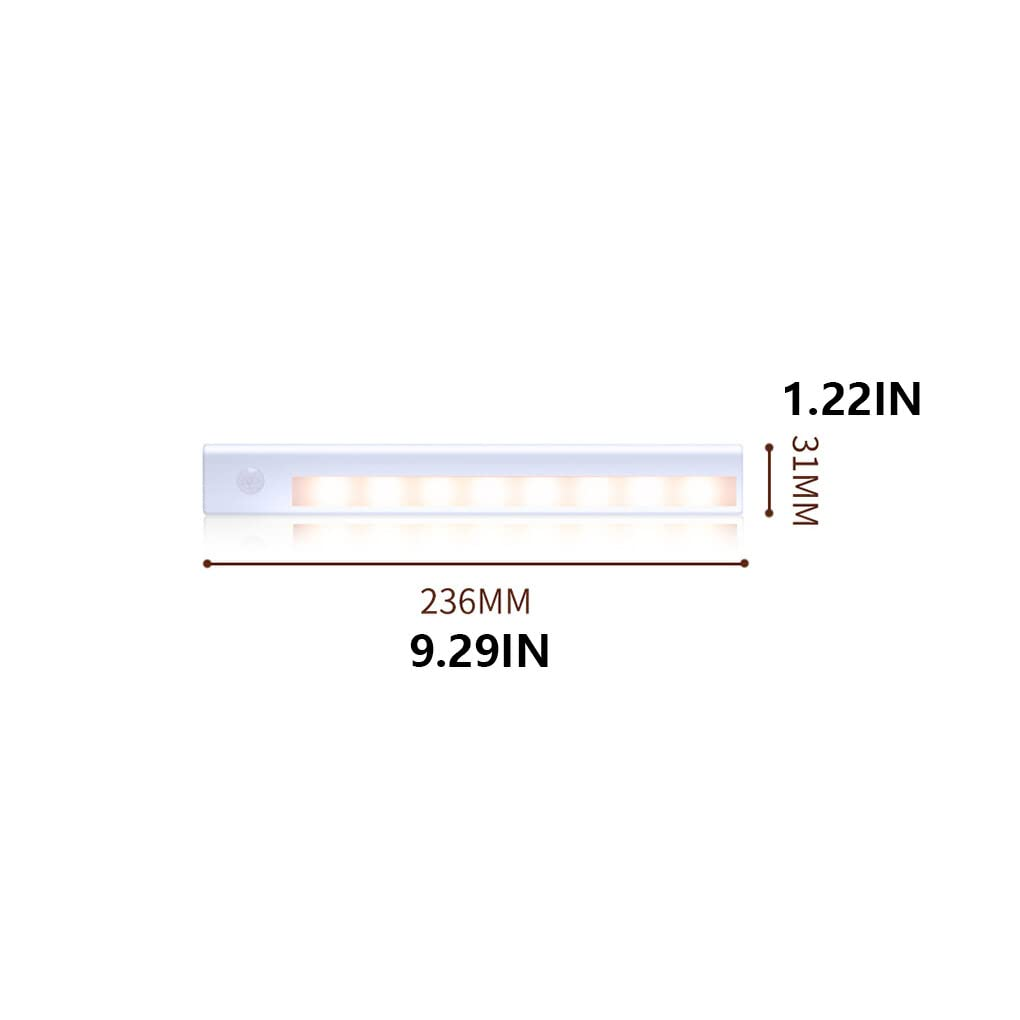236MM: (421, 588, 529, 614)
WWTE: (793, 436, 819, 525)
